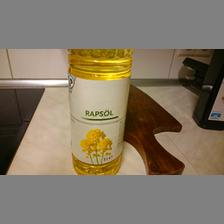Oel: (66, 48, 132, 174)
